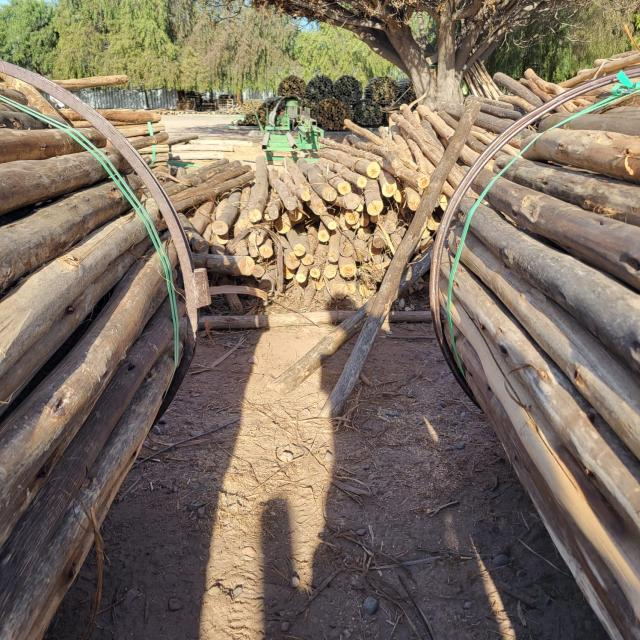package: (314, 98, 352, 128), (355, 98, 386, 128), (368, 78, 399, 106), (335, 76, 361, 102), (276, 76, 305, 99), (307, 78, 333, 102)
